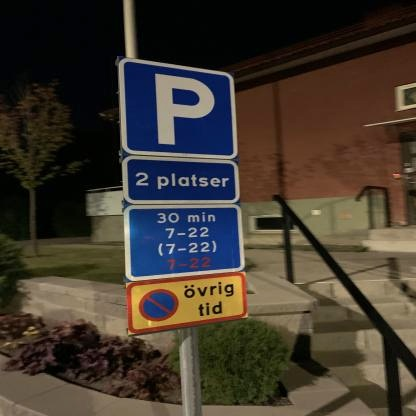P-skylt: (115, 56, 239, 161)
